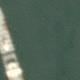ship: (0, 1, 29, 80)
